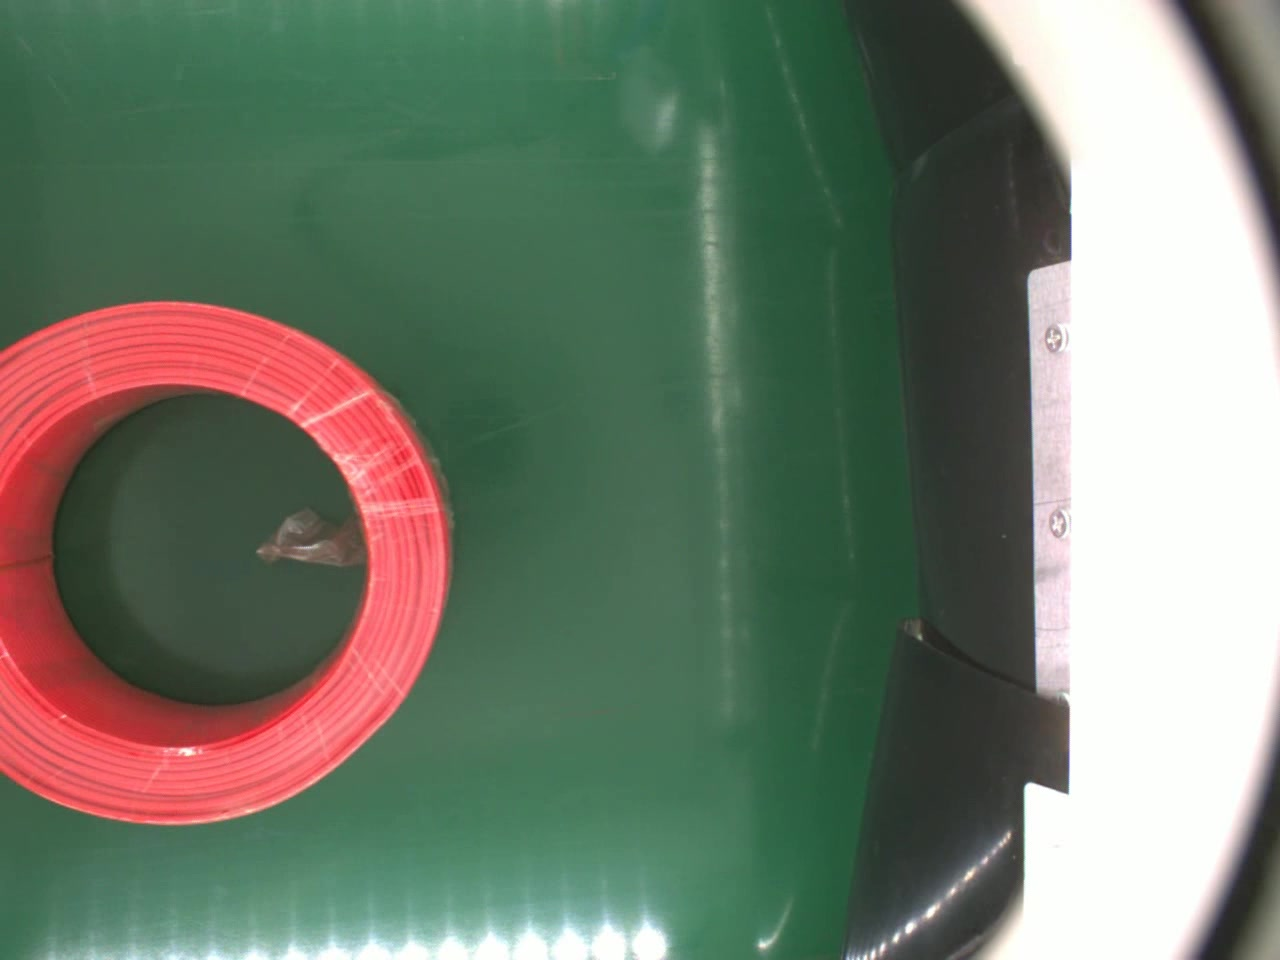red: (0, 296, 452, 827)
